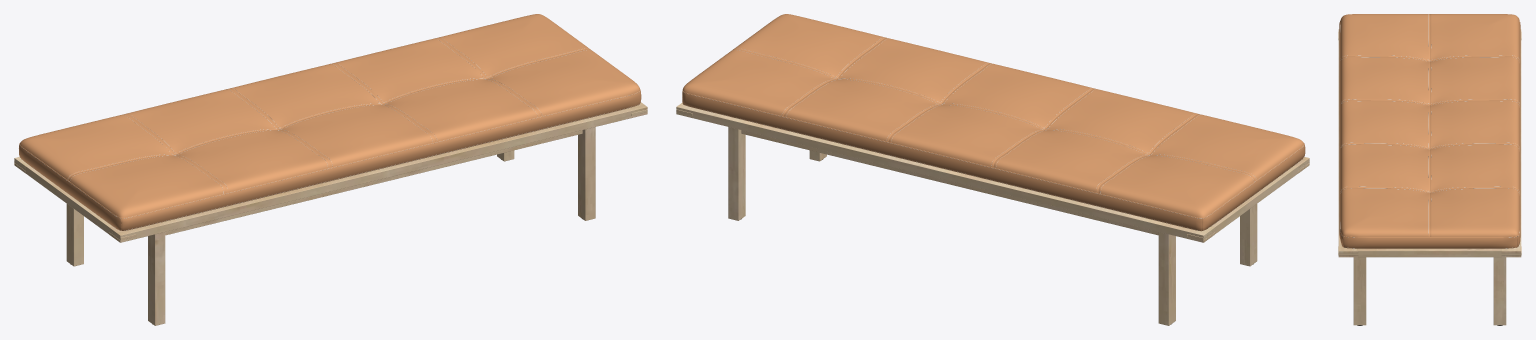
Rendered from stockholm_2025_awka_z_poduszka_09563953.glb.
3 views of the same model, side by side, from view 1: azimuth 30°, elevation 25°; view 2: azimuth 150°, elevation 25°; view 3: azimuth 270°, elevation 25° (orthographic). The views are drawn at different scales.
Visible parts, largest first — view 1: stockholm_2025_awka_z_poduszka_09563953; view 2: stockholm_2025_awka_z_poduszka_09563953; view 3: stockholm_2025_awka_z_poduszka_09563953.
Boxes of the visible parts, box(x1,y1,x2,y2) form: stockholm_2025_awka_z_poduszka_09563953: box(14, 14, 647, 325); stockholm_2025_awka_z_poduszka_09563953: box(676, 14, 1309, 325); stockholm_2025_awka_z_poduszka_09563953: box(1338, 14, 1521, 325).
Size of the model in its own units: 1.89 by 0.45 by 0.66.
Materials: 4 (1 with a texture image).
